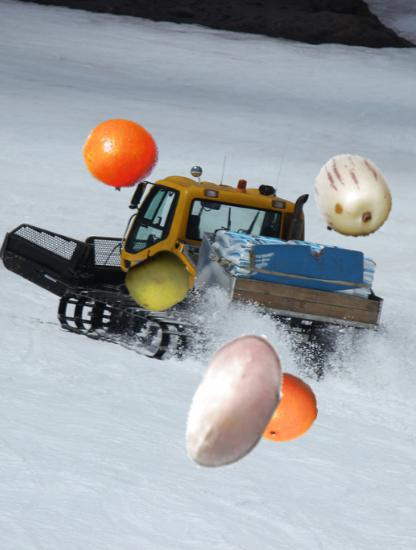Apple: (125, 247, 191, 313)
Grapefruit: (242, 369, 318, 445)
Hazelnut: (160, 329, 309, 478)
Pepino: (311, 154, 395, 238)
Tangelo: (82, 116, 160, 194)
